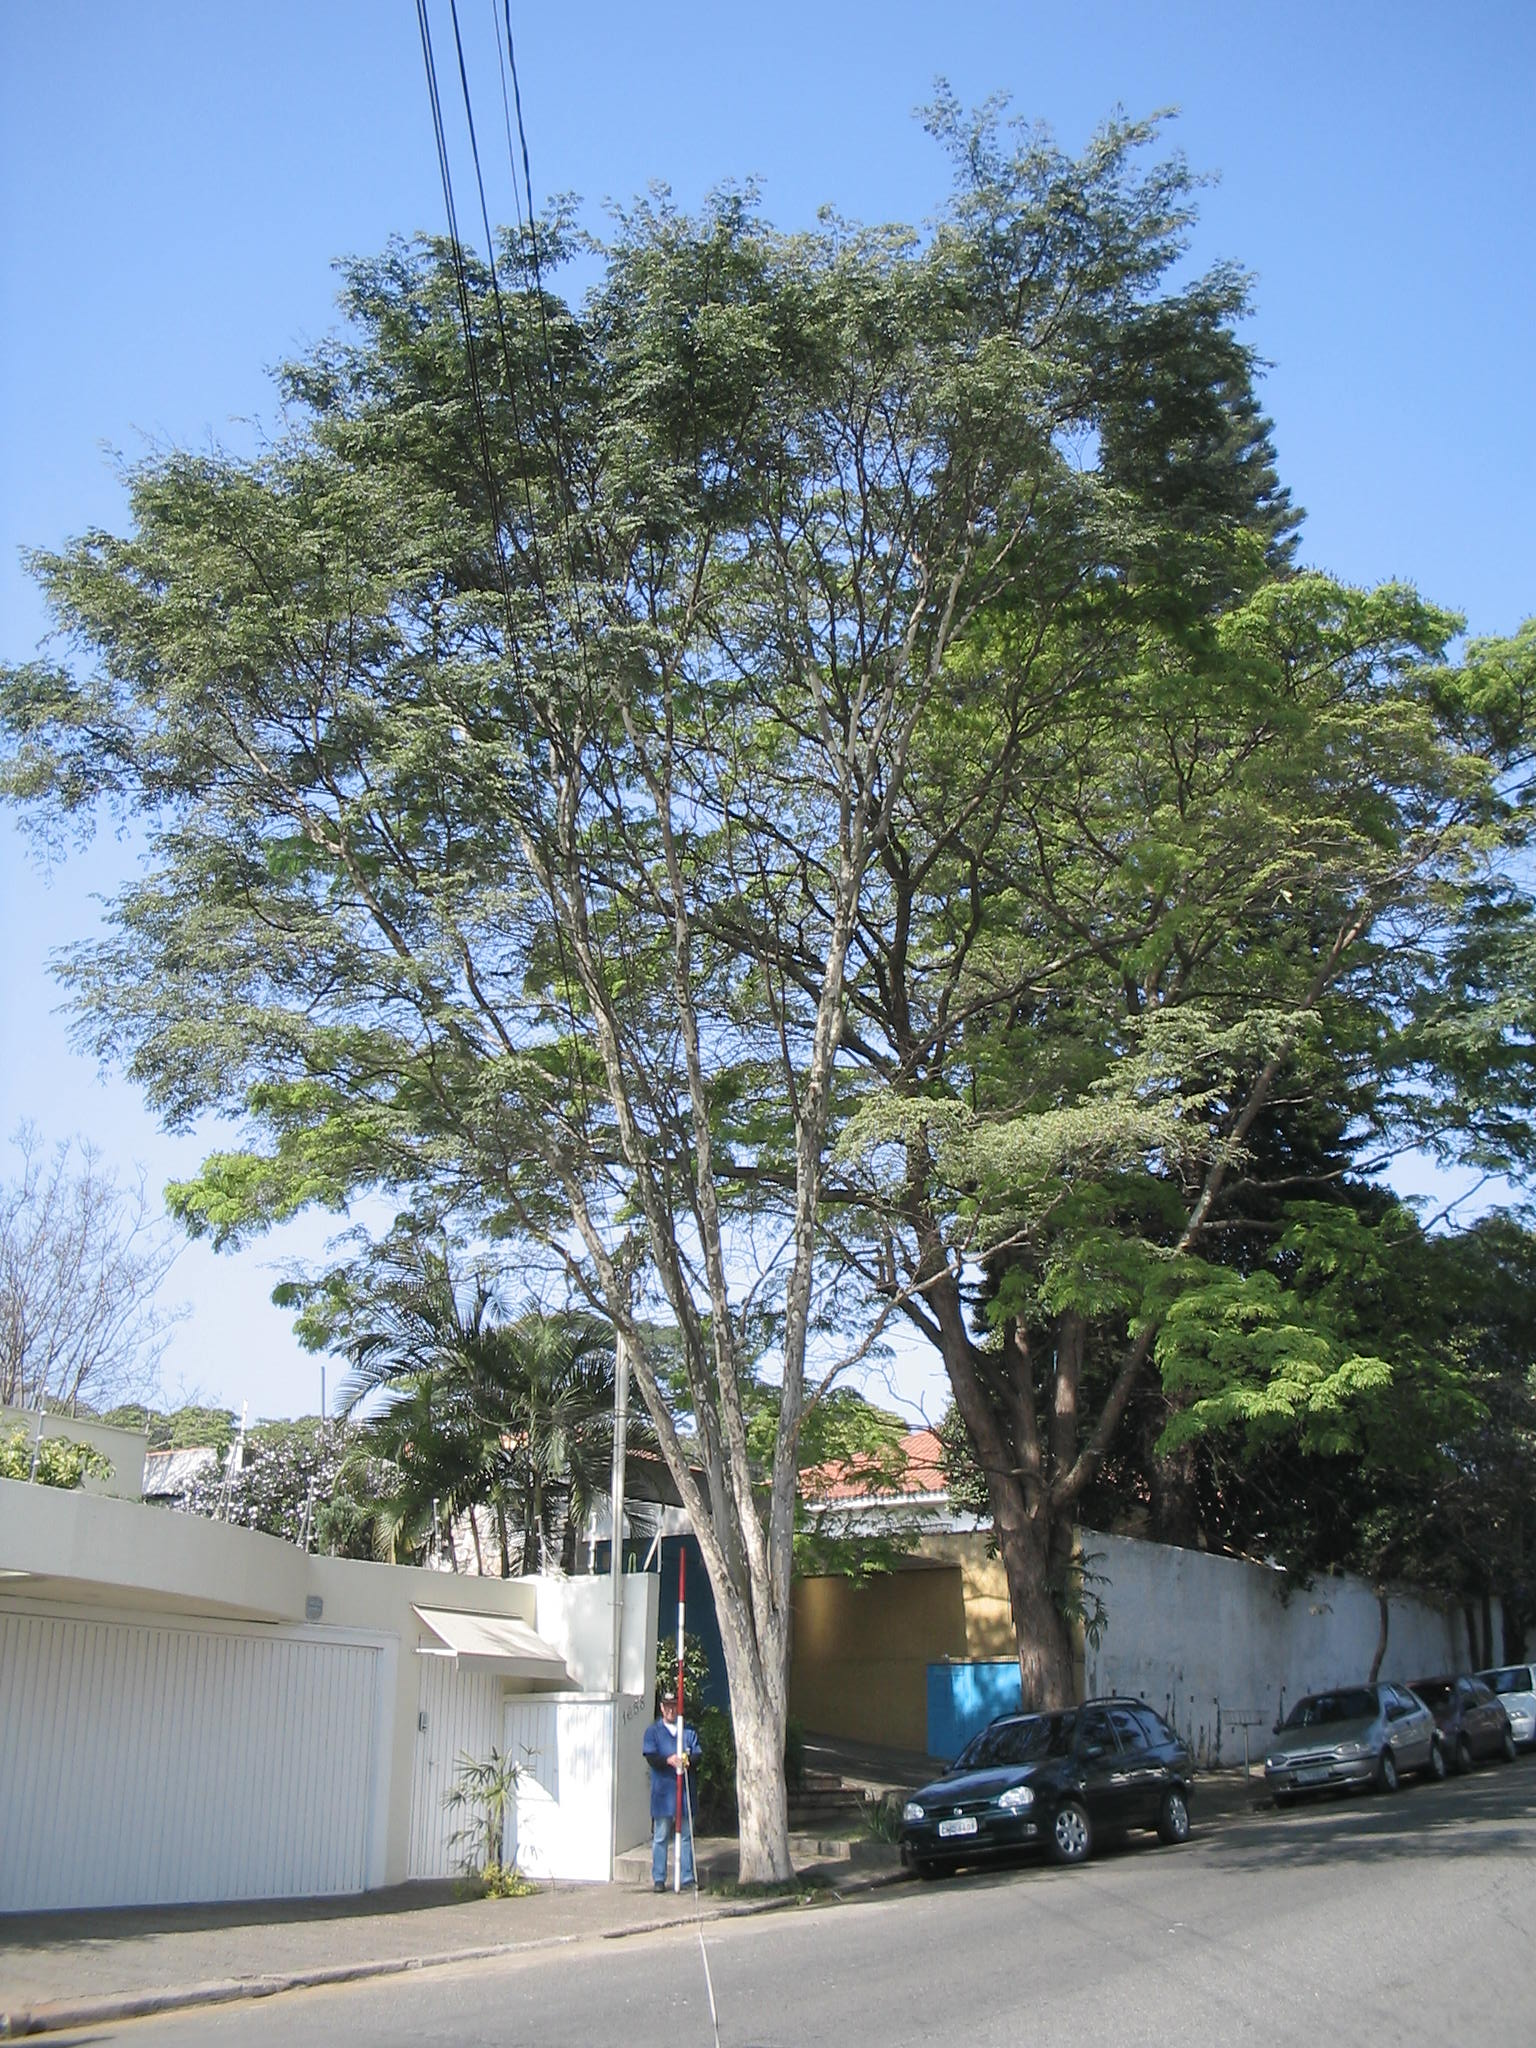crown: (10, 74, 1323, 1250)
stem: (989, 1550, 1117, 1825), (699, 1700, 831, 1887)
stick: (653, 1546, 703, 1890)
tree: (10, 66, 1325, 1890), (812, 540, 1525, 1832)
